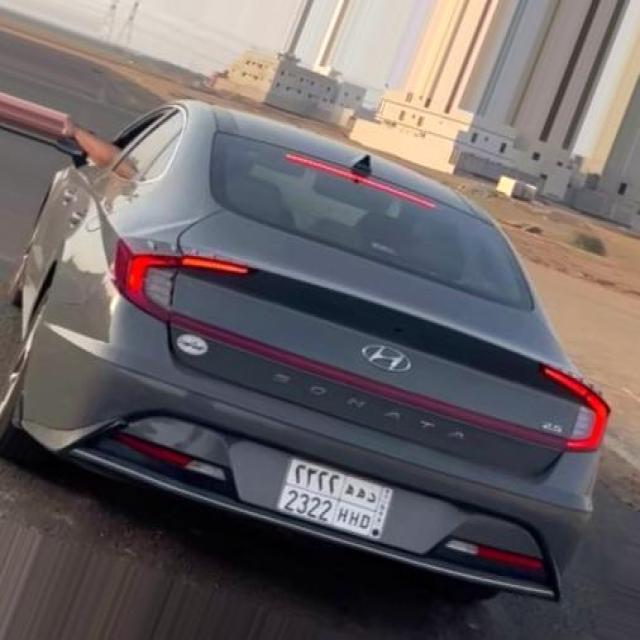Car-plate: (267, 444, 407, 546)
